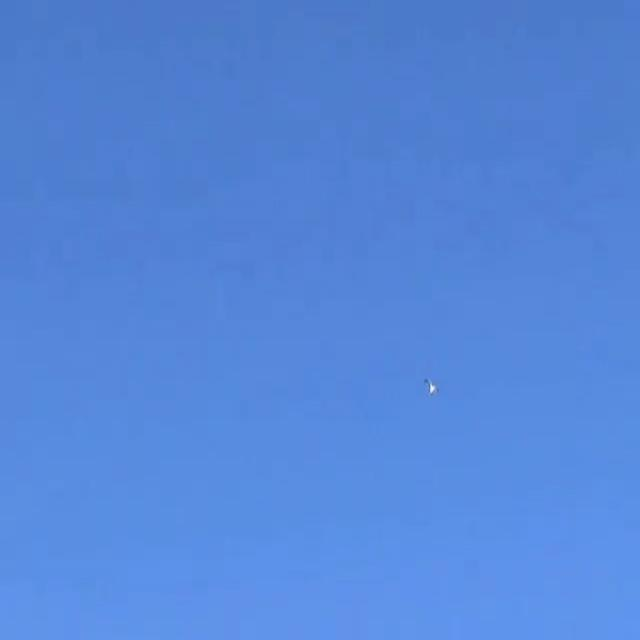bird: (422, 372, 442, 403)
